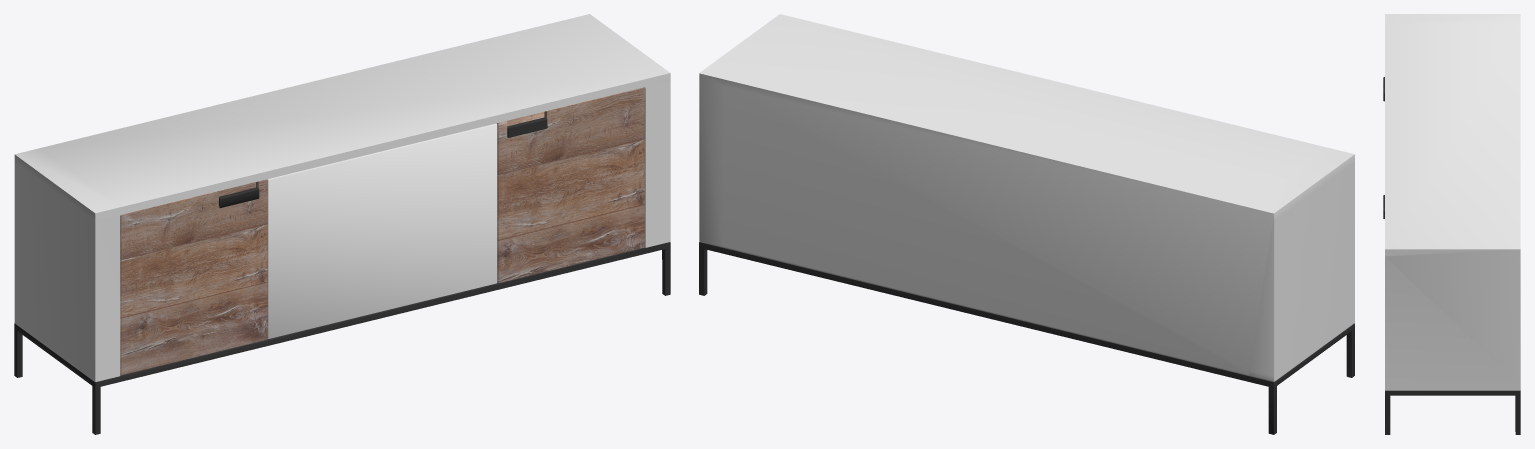
Rendered from Cabinet.FBX.
3 renders of one model, left to right at view 1: azimuth 30°, elevation 25°; view 2: azimuth 150°, elevation 25°; view 3: azimuth 270°, elevation 25°, orthographic. The views are drawn at different scales.
Visible parts, largest first — view 1: cabinet; view 2: cabinet; view 3: cabinet.
Boxes of the visible parts, box(x1,y1,x2,y2) form: cabinet: box(14, 14, 670, 434); cabinet: box(699, 14, 1354, 434); cabinet: box(1383, 14, 1520, 434).
Size of the model in its own units: 218 by 80.36 by 53.82.
2 materials, 1 textured.
